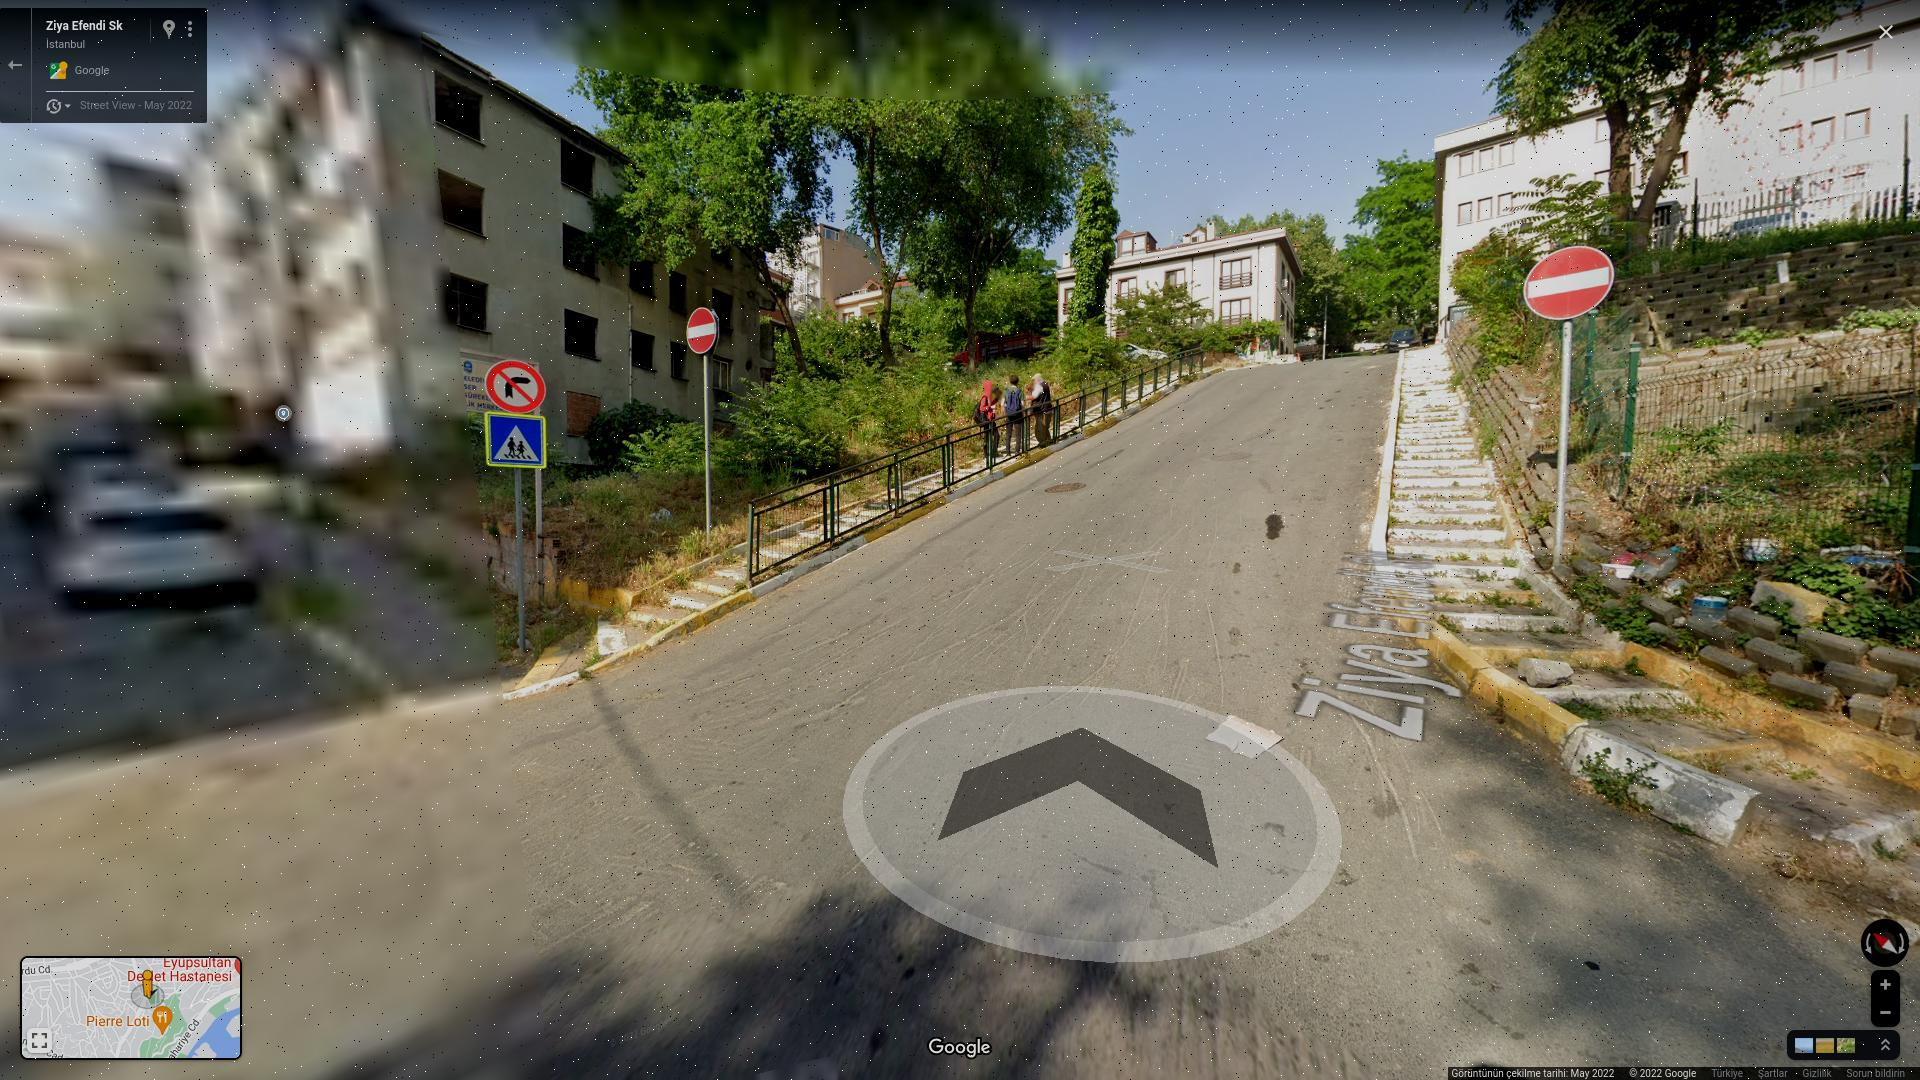rightturnsareforbidden: (485, 361, 547, 413)
